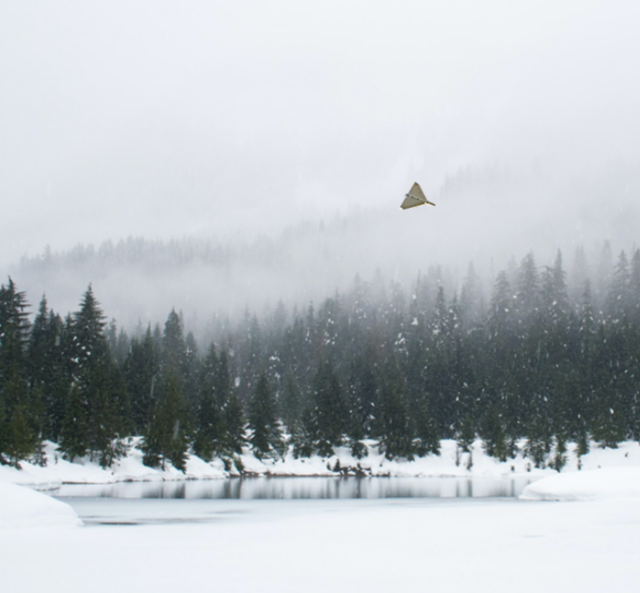military drone: (399, 181, 435, 209)
